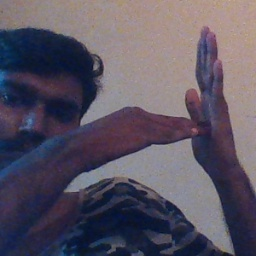Z: (131, 22, 239, 172)
